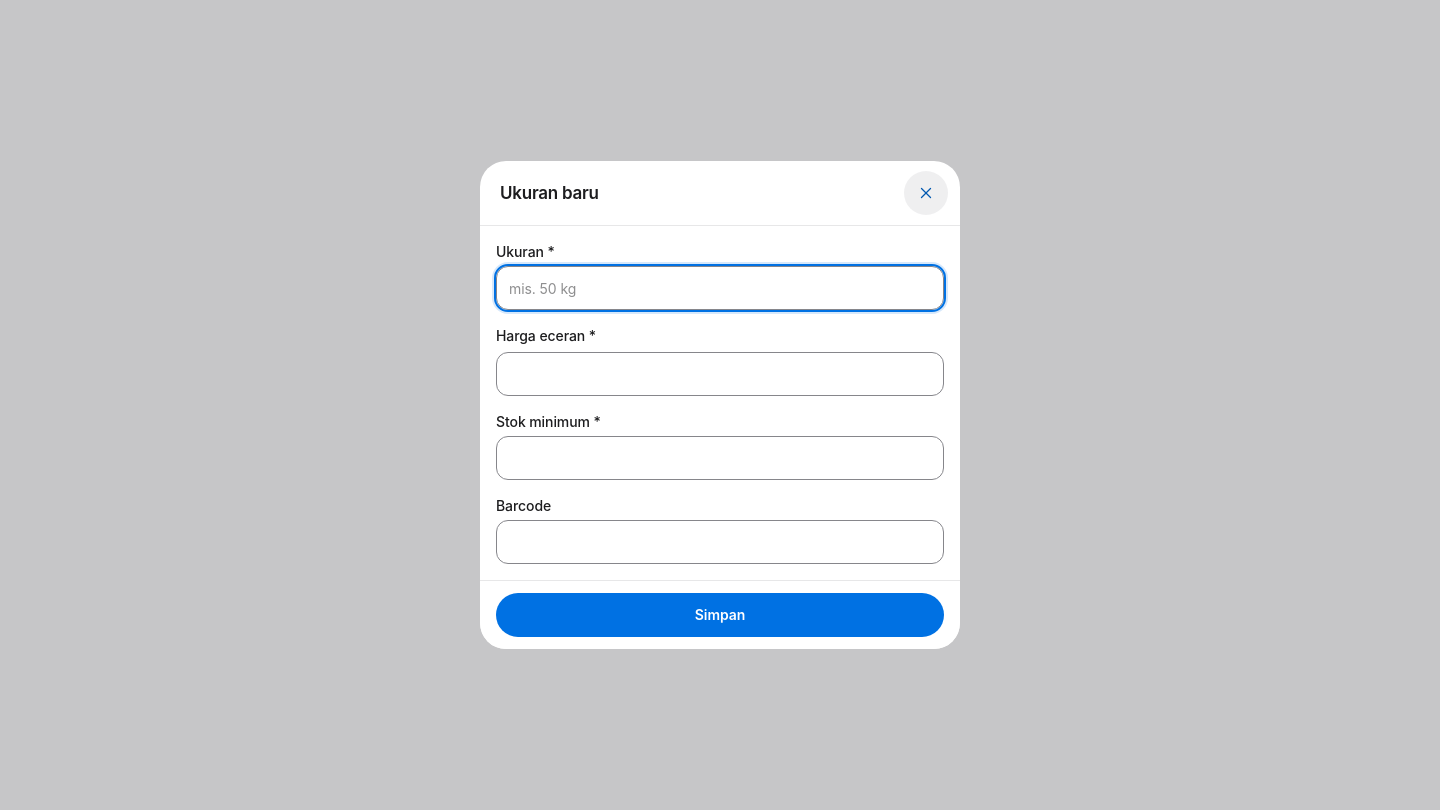
UkuranSheet: create › rejects an empty ukuran
The width and height of the screenshot is (1440, 810).
In the field labelled "Harga eceran": coordinates (720, 374) [496, 352, 944, 396], type "65000"
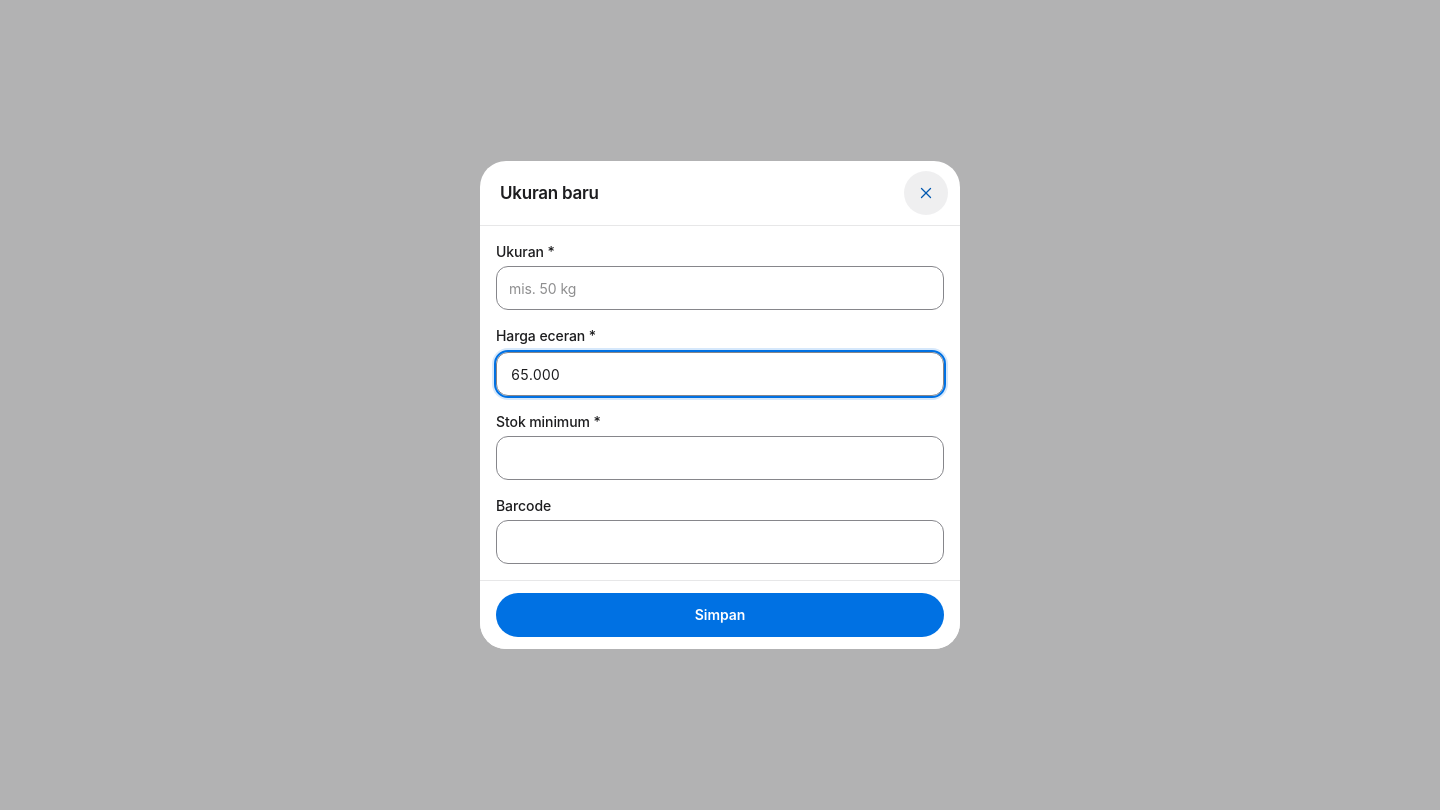
In the number field labelled "Stok minimum": coordinates (720, 458) [496, 436, 944, 480], type "10"
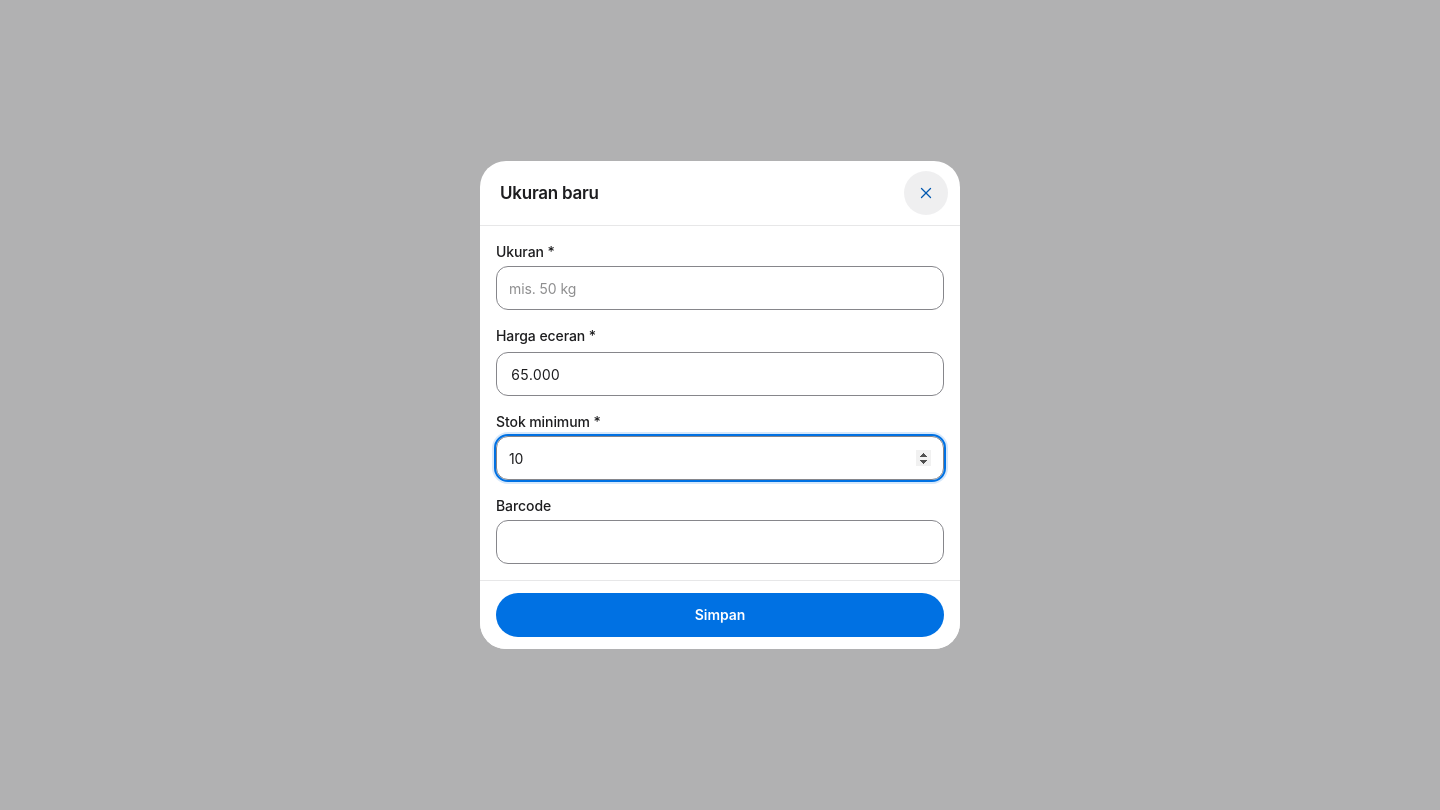
Click the button "Simpan": coordinates (720, 615) [496, 593, 944, 637]
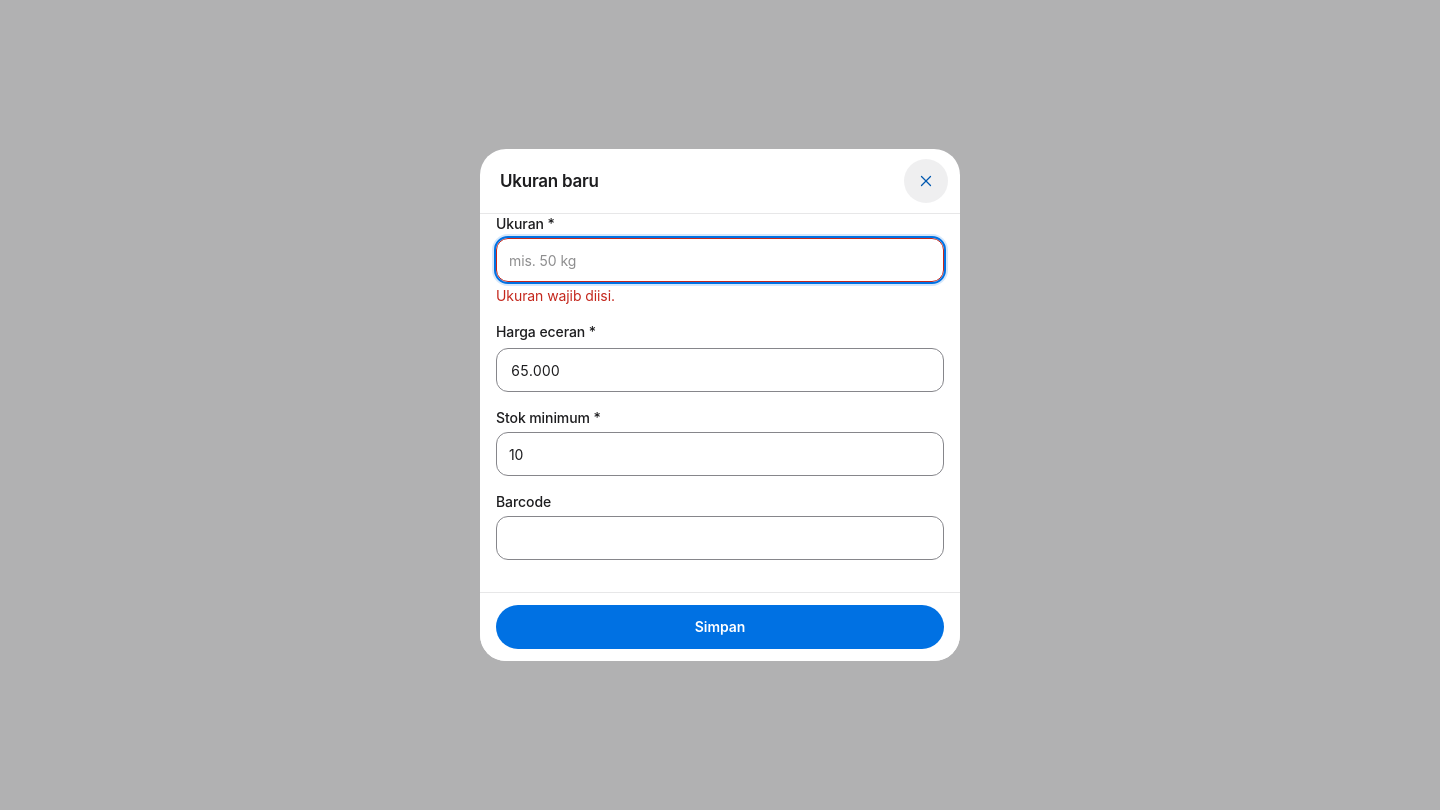
Expected: the text "Ukuran wajib diisi." is shown, [496, 287, 615, 304]
